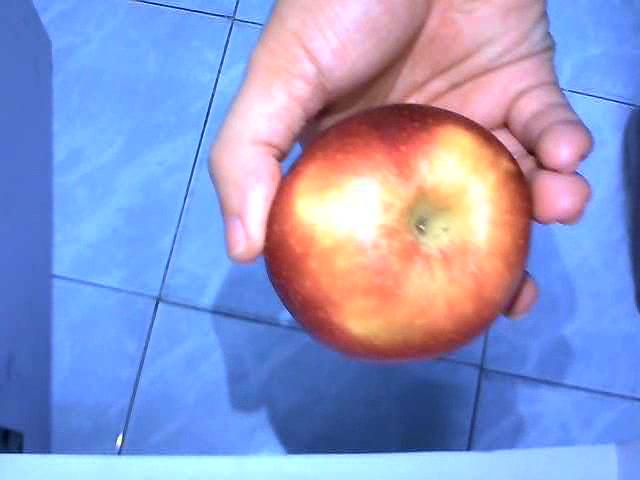apple: (264, 104, 530, 358)
